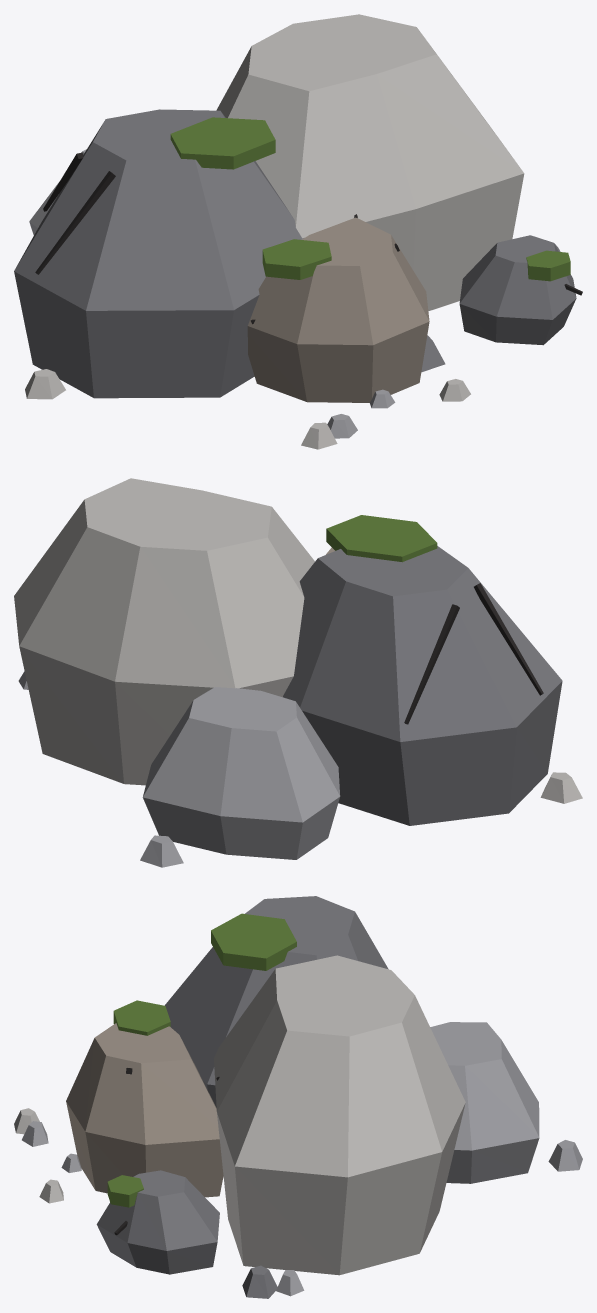
The model's file is stone_2.obj.
3 renders of one model, top to bottom at view 1: azimuth 30°, elevation 25°; view 2: azimuth 150°, elevation 25°; view 3: azimuth 270°, elevation 25°, orthographic. The views are drawn at different scales.
Visible parts, largest first — view 1: Boulder, Moss, Pebble, Crack; view 2: Boulder, Moss, Pebble, Crack; view 3: Boulder, Moss, Pebble.
Part boxes in pixels (<box>): Boulder: <box>14,14,576,402</box>; Moss: <box>170,117,570,281</box>; Pebble: <box>25,243,560,449</box>; Crack: <box>35,152,582,324</box>; Boulder: <box>14,478,562,859</box>; Moss: <box>326,515,437,562</box>; Pebble: <box>18,671,582,867</box>; Crack: <box>404,583,543,724</box>; Boulder: <box>66,896,539,1275</box>; Moss: <box>107,913,296,1207</box>; Pebble: <box>14,1108,582,1298</box>.
Size of the model in its own units: 3.02 by 1.2 by 2.88.
